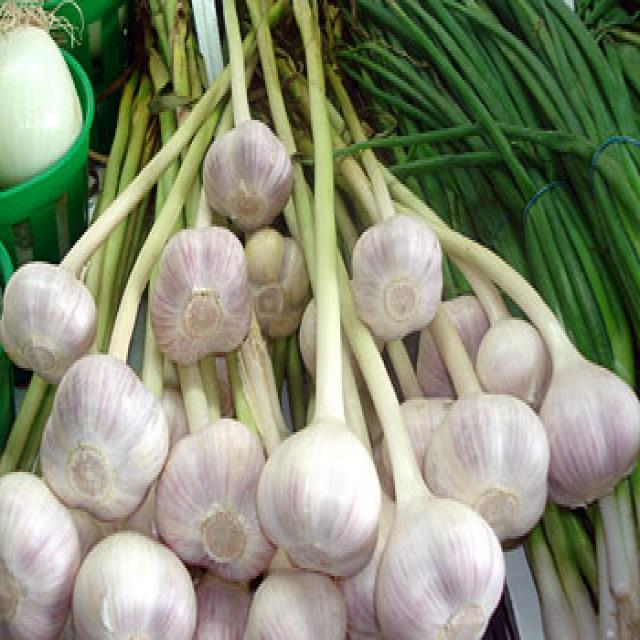Garlic: (349, 332, 508, 634), (266, 325, 391, 576), (152, 377, 273, 608), (40, 323, 170, 530), (11, 171, 127, 398), (173, 14, 293, 220), (139, 186, 263, 370), (417, 388, 555, 551), (535, 322, 630, 554), (352, 153, 460, 357)
